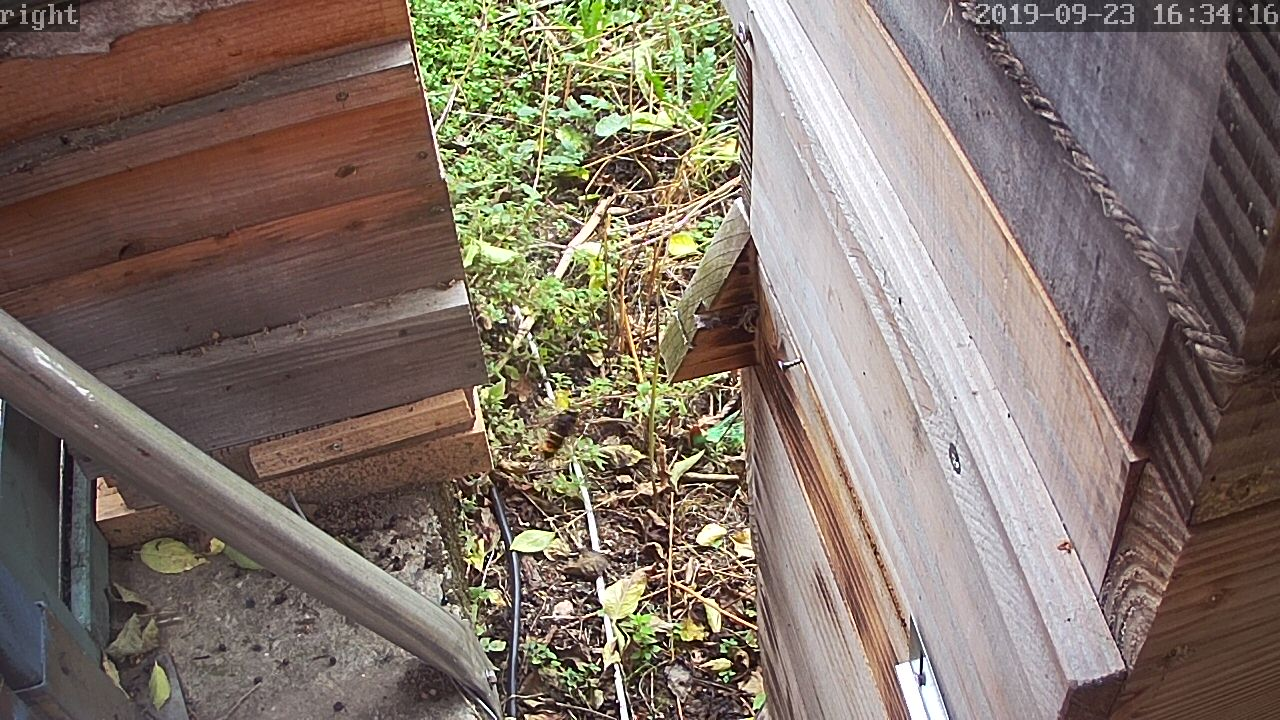hornet: (545, 404, 588, 454)
